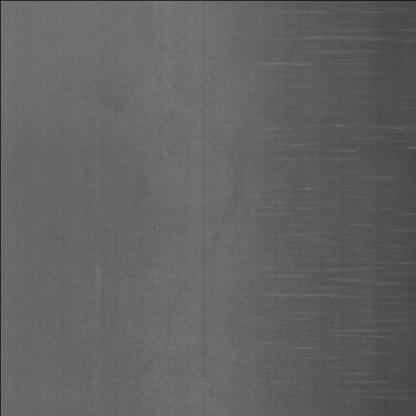waist_folding: (243, 31, 406, 416)
